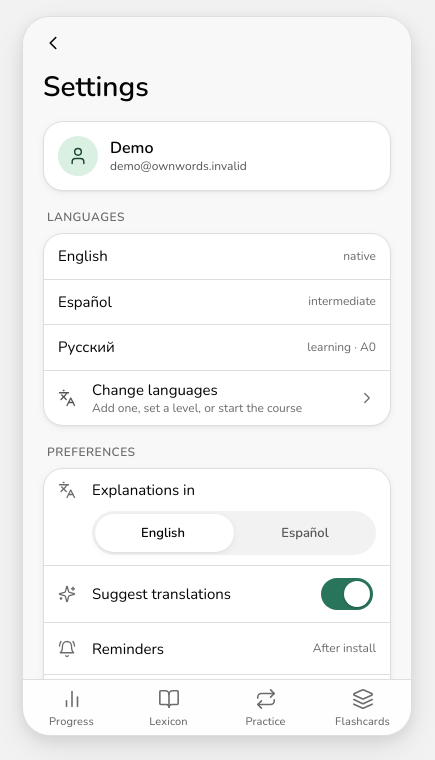
Test: Settings › opens the languages form on its own, without the preferences
Click the button "Change languages": (217, 398) [44,371,390,425]
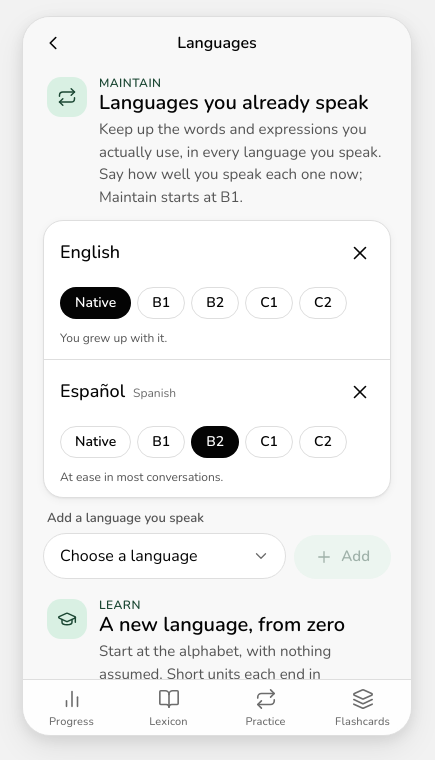
Now the heading "Languages" is shown, box [177,32,257,54]
Now the element named "How well you speak English" is shown, box [60,281,382,325]
Now the text "Suggest translations" is gone
